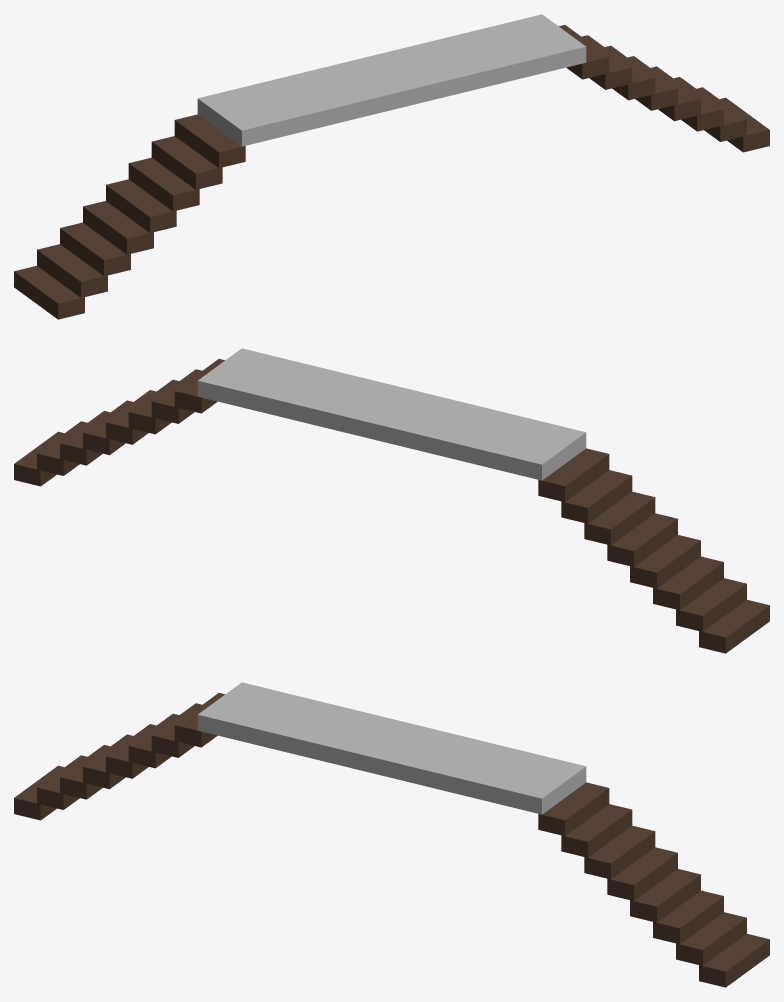
Rendered from stairsandplatform.obj.
3 views of the same model, one above another, from view 1: azimuth 30°, elevation 25°; view 2: azimuth 150°, elevation 25°; view 3: azimuth 330°, elevation 25° (orthographic).
Bounding box in the file's own units: 18.6 × 3.6 × 2.
1 material, 1 textured.
